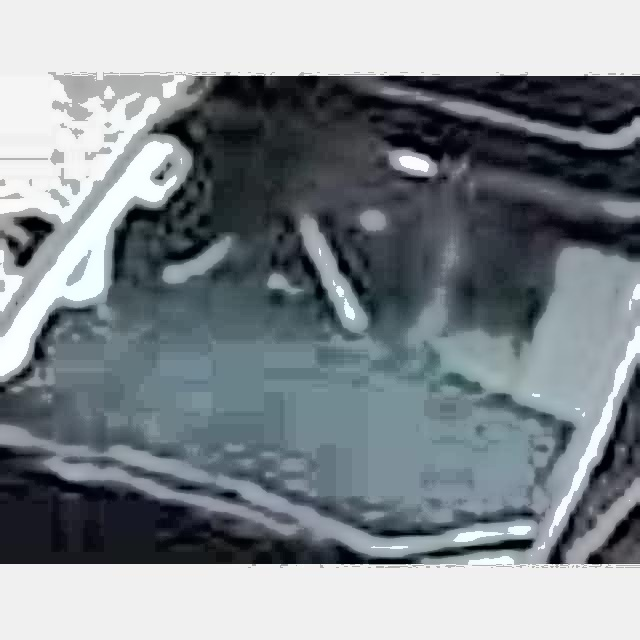pakai: (198, 142, 442, 360)
